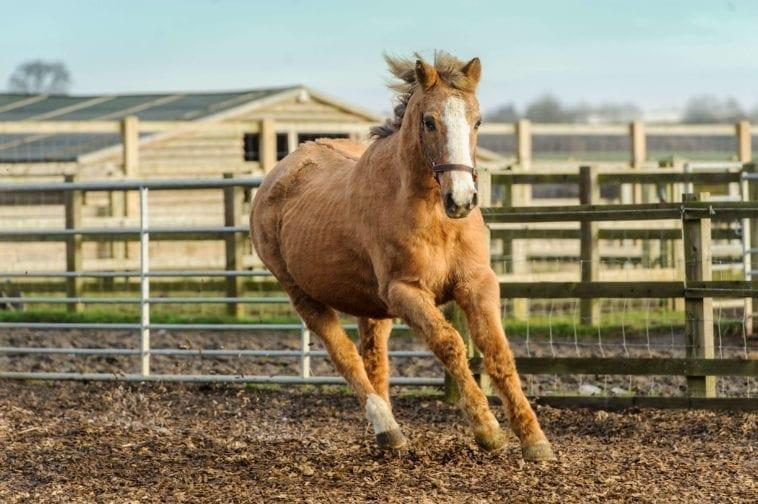horse: (241, 42, 564, 467)
